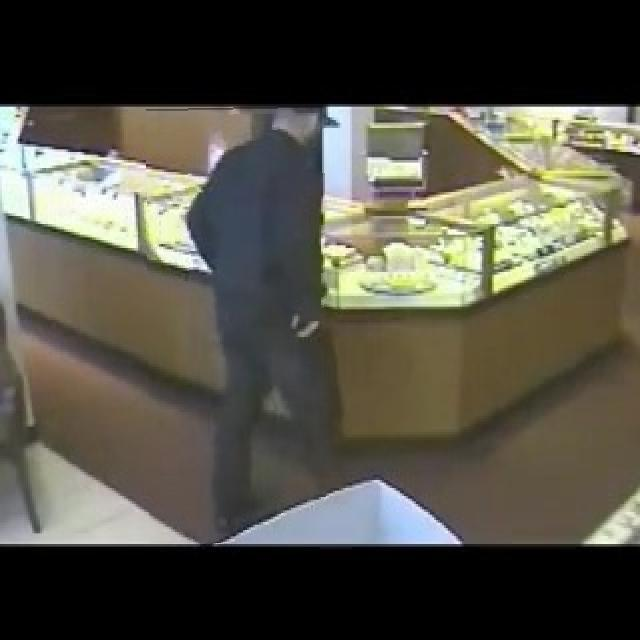normal: (146, 105, 346, 543)
